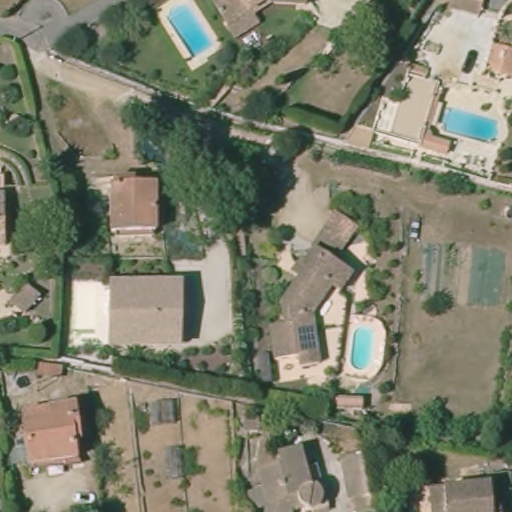pool: (433, 99, 504, 148), (164, 1, 217, 61), (341, 315, 381, 381)
